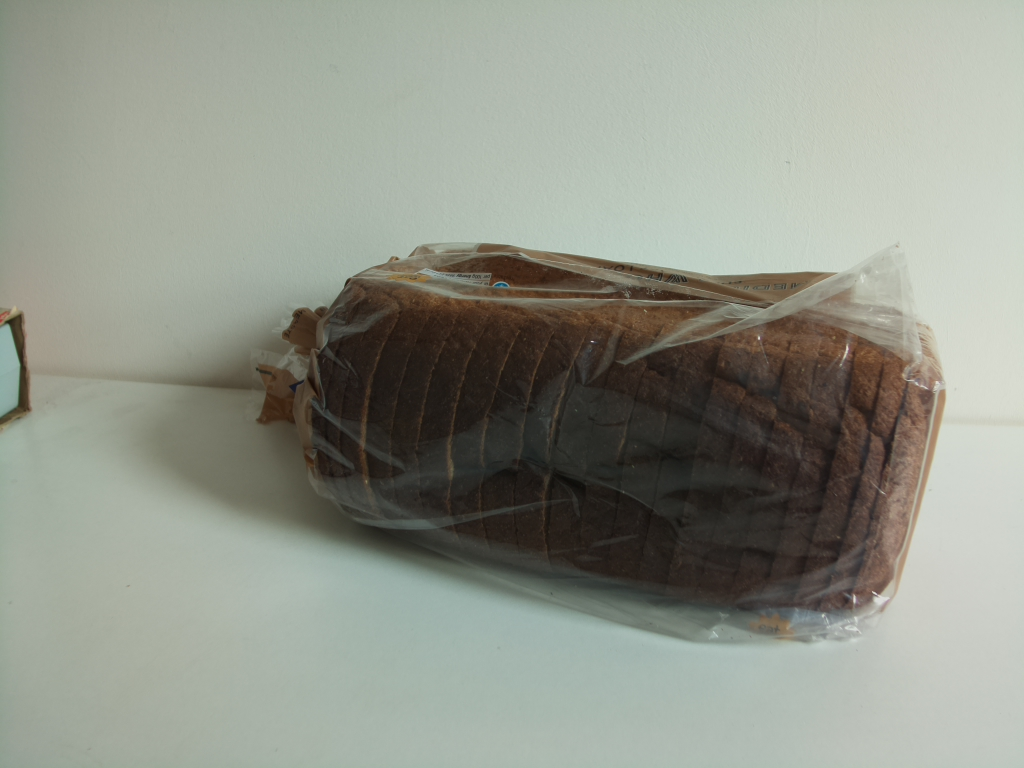bread: (252, 240, 952, 642)
